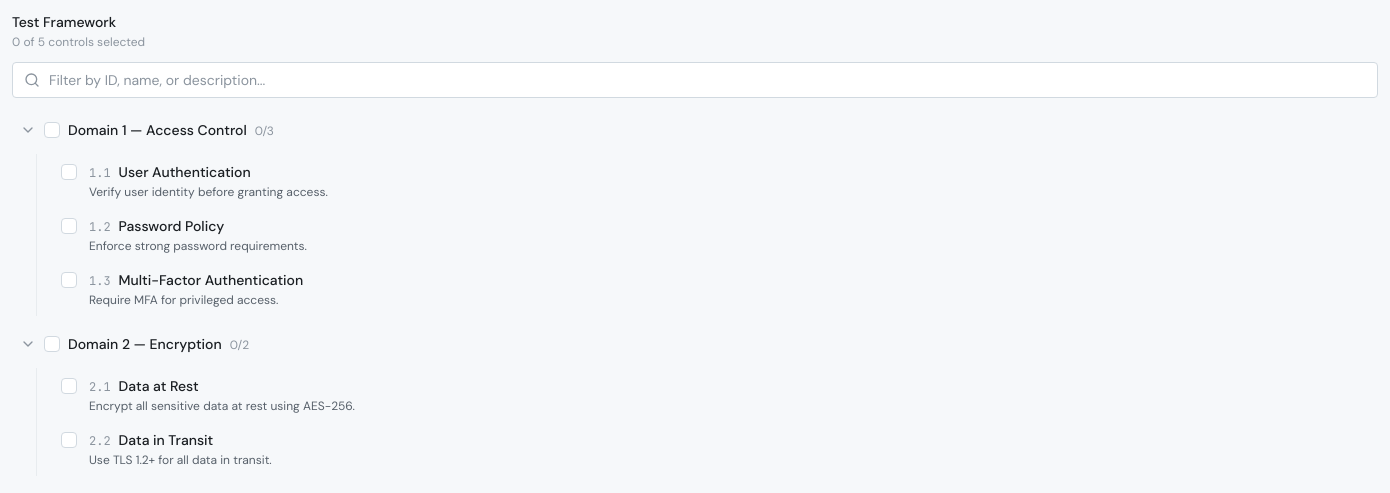
it: ControlSelector › search filtering › filters controls by name
This screenshot has width=1390, height=493.
Type "Password" into the field with placeholder "Filter by ID, name, or description..." at (695, 80), box top-left (12, 62), bottom-right (1378, 98)
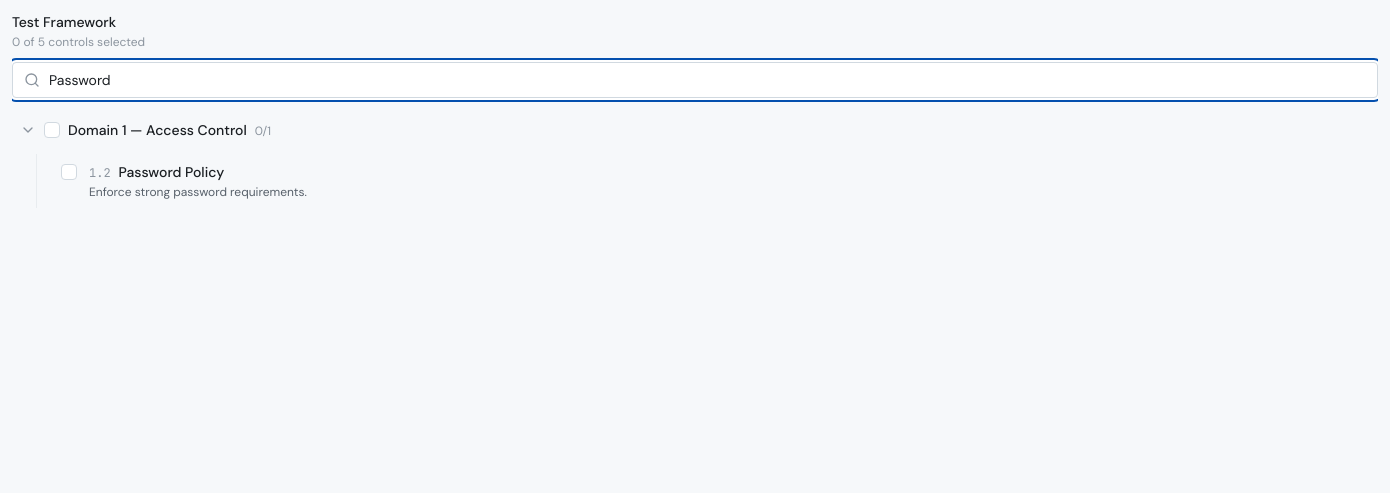
expect the text "Password Policy" is shown: met, box top-left (119, 162), bottom-right (224, 182)
expect the text "User Authentication" is gone: met
expect the text "Data at Rest" is gone: met
